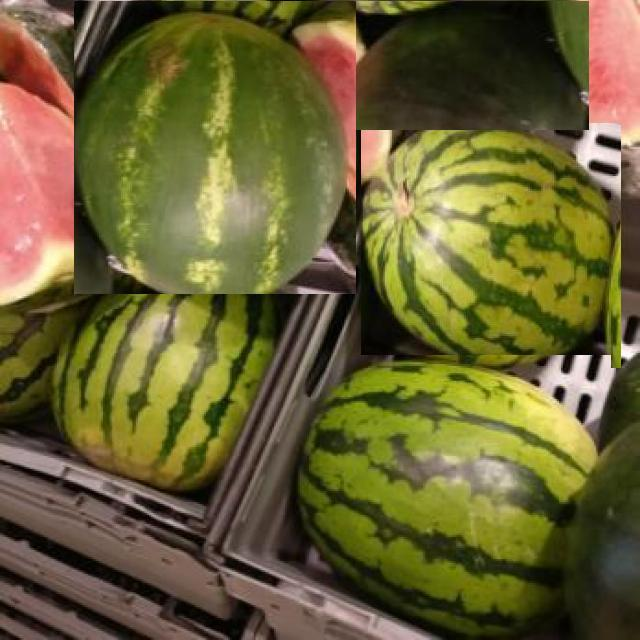Watermelon: (282, 355, 611, 636), (73, 0, 356, 294), (361, 122, 621, 368), (24, 263, 290, 493), (313, 0, 589, 130)
